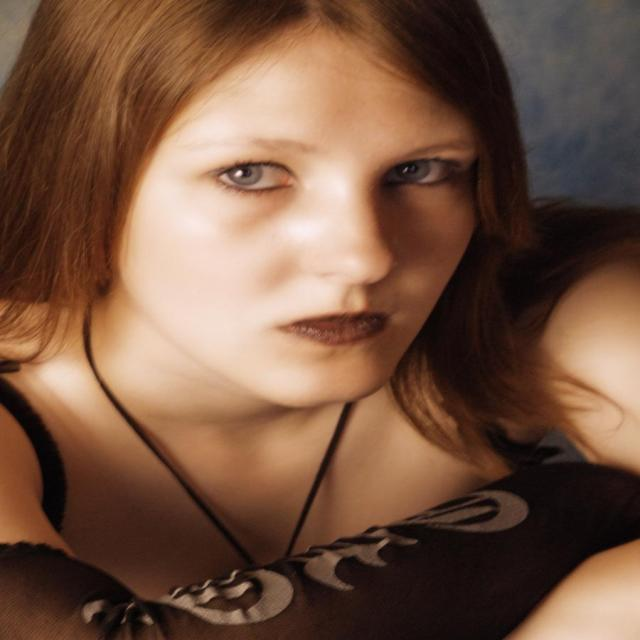no-glass: (195, 158, 471, 194)
